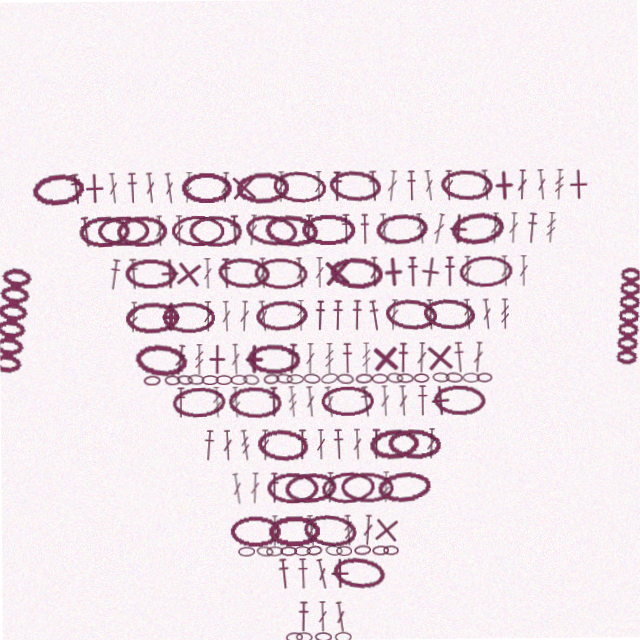chain: (244, 211, 301, 249), (300, 512, 357, 549), (329, 555, 385, 592), (450, 211, 506, 248), (133, 340, 188, 377), (264, 212, 320, 248), (375, 470, 430, 506), (319, 470, 375, 505), (32, 169, 86, 205), (384, 298, 439, 333), (422, 298, 477, 333), (217, 255, 272, 290), (273, 169, 328, 204), (329, 169, 384, 204), (255, 427, 309, 462), (282, 471, 337, 505), (329, 256, 384, 290), (386, 428, 440, 462), (376, 213, 430, 247), (171, 385, 226, 418), (459, 256, 514, 289), (367, 428, 420, 462), (227, 385, 281, 418), (254, 257, 309, 289), (189, 214, 244, 246), (432, 385, 485, 418), (255, 299, 308, 332), (79, 213, 132, 246), (441, 170, 494, 203), (246, 343, 300, 375), (125, 300, 179, 332), (162, 300, 216, 332), (339, 472, 392, 504), (237, 171, 290, 203), (302, 214, 356, 245), (265, 472, 318, 503), (320, 386, 373, 417), (125, 257, 178, 288), (172, 214, 225, 245), (228, 515, 280, 546), (266, 515, 318, 546), (98, 214, 150, 245), (117, 214, 169, 245), (182, 171, 234, 202), (320, 372, 338, 385), (254, 545, 272, 557), (336, 373, 354, 385), (176, 373, 193, 385), (242, 373, 259, 385), (323, 545, 341, 556), (275, 373, 293, 384), (304, 545, 321, 556), (352, 545, 369, 556), (187, 373, 204, 384), (303, 373, 320, 384), (386, 373, 403, 384), (432, 373, 449, 384), (445, 373, 462, 384), (263, 373, 279, 384), (236, 546, 253, 556), (264, 546, 281, 556), (278, 546, 295, 556), (292, 546, 309, 556), (370, 546, 387, 556), (143, 374, 160, 384), (201, 374, 218, 384), (215, 374, 232, 384), (230, 374, 247, 384), (286, 374, 303, 384), (355, 374, 372, 384), (371, 374, 388, 384), (396, 374, 413, 384), (462, 374, 479, 384), (334, 546, 350, 556), (381, 546, 397, 556), (164, 374, 180, 384), (413, 374, 429, 384), (476, 374, 492, 384), (283, 632, 300, 640), (293, 632, 310, 640), (312, 632, 329, 640), (332, 632, 349, 640)
double: (312, 558, 328, 590), (432, 214, 448, 246), (331, 601, 345, 633), (229, 472, 243, 504), (322, 386, 336, 418), (173, 343, 187, 375), (164, 171, 177, 203), (303, 515, 316, 546), (257, 300, 270, 331), (247, 214, 260, 245), (108, 171, 121, 202), (145, 171, 158, 202), (387, 171, 400, 202), (424, 171, 437, 202), (360, 515, 372, 546), (304, 386, 316, 417), (472, 343, 484, 374), (388, 300, 400, 331), (481, 300, 493, 331), (295, 257, 307, 288), (379, 214, 391, 245), (490, 214, 502, 245), (481, 171, 493, 202), (537, 171, 549, 202), (248, 472, 259, 503), (323, 472, 334, 503), (221, 429, 232, 460), (351, 429, 362, 460), (425, 429, 436, 460), (379, 386, 390, 417), (397, 386, 408, 417), (230, 343, 241, 374), (416, 343, 427, 374), (221, 300, 232, 331), (239, 300, 250, 331), (425, 300, 436, 331), (258, 257, 269, 288), (500, 257, 511, 288), (155, 214, 166, 245), (509, 214, 520, 245), (221, 171, 232, 202), (518, 171, 529, 202), (315, 601, 325, 632), (259, 429, 269, 460), (315, 429, 325, 460), (305, 343, 315, 374), (203, 300, 213, 331), (203, 257, 213, 288), (315, 257, 325, 288), (370, 257, 380, 288), (463, 257, 473, 288), (519, 257, 529, 288), (175, 214, 185, 245), (277, 171, 287, 202), (315, 171, 325, 202), (445, 171, 455, 202)
enseble_chain: (0, 263, 36, 376), (612, 269, 640, 371)
half_double: (367, 300, 383, 332), (107, 257, 123, 289), (79, 214, 95, 246), (358, 386, 373, 418), (70, 171, 85, 203), (526, 214, 540, 246), (275, 558, 289, 589), (201, 429, 215, 460), (285, 343, 299, 374), (452, 343, 466, 374), (127, 257, 141, 288), (368, 171, 382, 202), (331, 429, 344, 460), (220, 257, 233, 288), (229, 214, 242, 245), (303, 214, 316, 245), (127, 171, 140, 202), (295, 601, 307, 632), (295, 558, 307, 589), (267, 472, 279, 503), (295, 429, 307, 460), (369, 429, 381, 460), (174, 386, 186, 417), (267, 386, 279, 417), (416, 386, 428, 417), (341, 343, 353, 374), (397, 343, 409, 374), (314, 300, 326, 331), (332, 300, 344, 331), (351, 300, 363, 331), (407, 257, 419, 288), (444, 257, 456, 288), (341, 214, 353, 245), (332, 171, 344, 202), (360, 214, 371, 245), (407, 171, 418, 202)
single: (172, 256, 206, 290), (414, 256, 448, 290), (368, 514, 401, 547), (423, 385, 456, 418), (423, 342, 456, 375), (377, 256, 410, 289), (369, 343, 401, 375), (154, 256, 186, 288), (443, 214, 475, 246), (229, 171, 261, 203), (322, 257, 353, 289), (490, 171, 521, 203), (322, 558, 353, 589), (238, 343, 269, 374), (155, 300, 186, 331), (80, 171, 111, 202), (564, 171, 595, 202), (202, 343, 232, 374)
treble: (238, 429, 251, 460), (415, 214, 428, 245), (286, 386, 298, 417), (462, 300, 474, 331), (546, 214, 558, 245), (183, 171, 195, 202), (341, 515, 352, 546), (379, 472, 390, 503), (211, 386, 222, 417), (230, 386, 241, 417), (128, 300, 139, 331), (555, 171, 566, 202), (268, 515, 278, 546), (194, 343, 204, 374), (324, 343, 334, 374), (361, 343, 371, 374), (296, 300, 306, 331), (500, 300, 510, 331)
